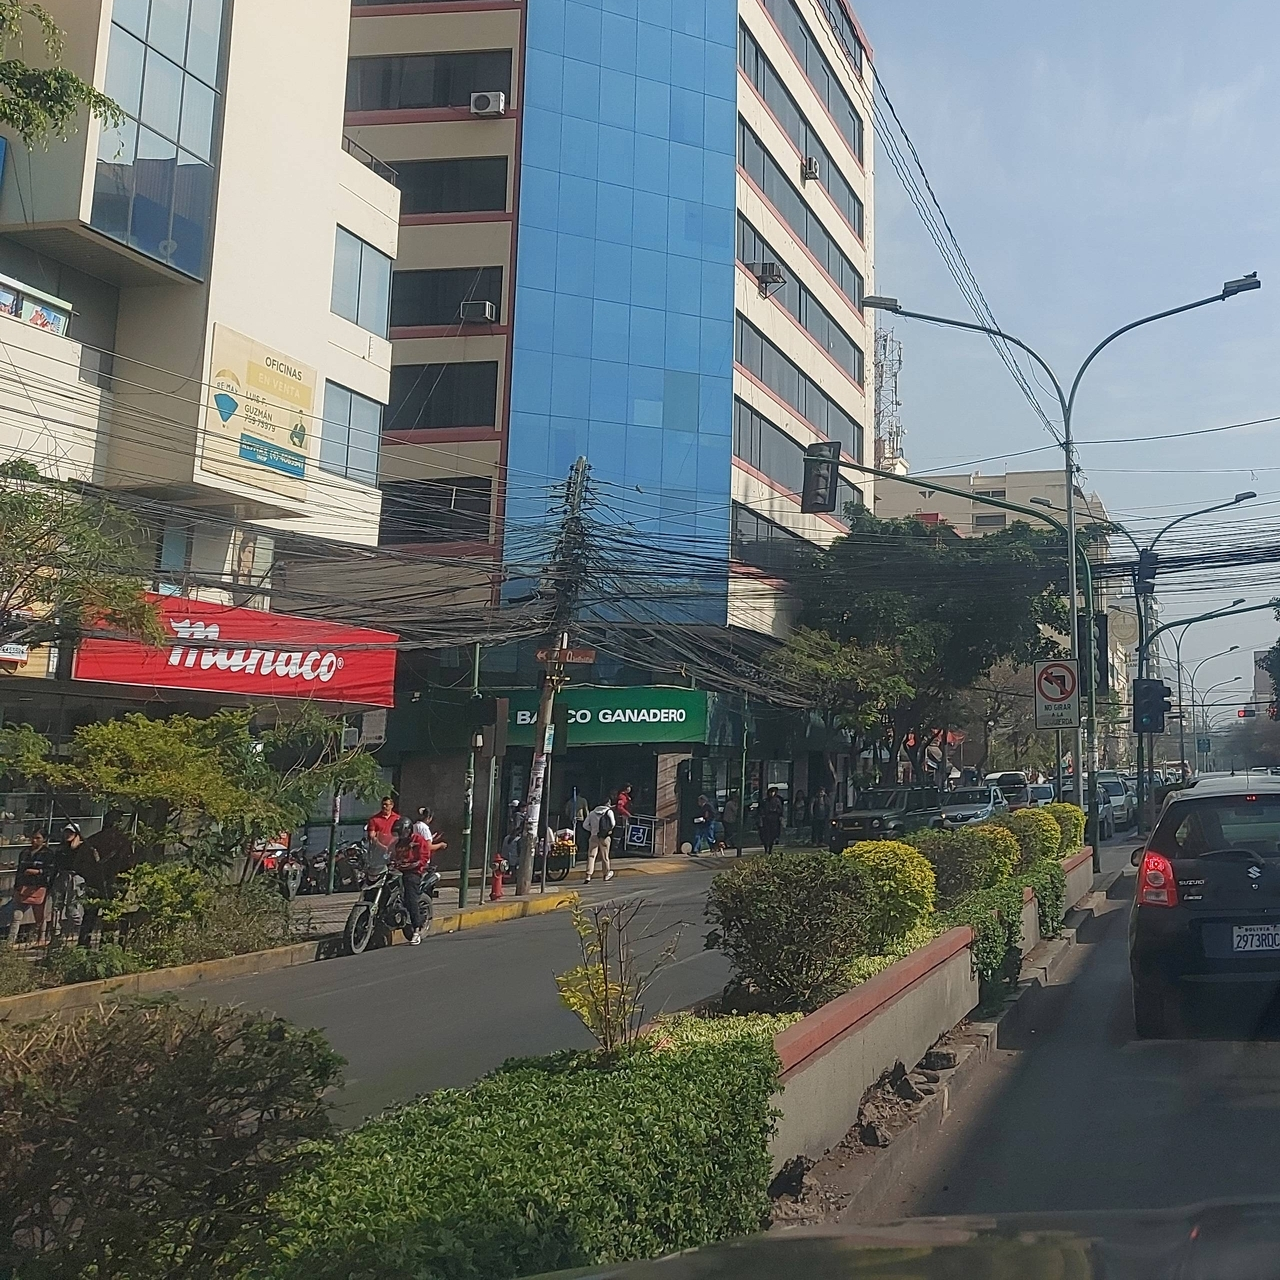prohibido-girar-izquierda: (1032, 659, 1082, 730)
